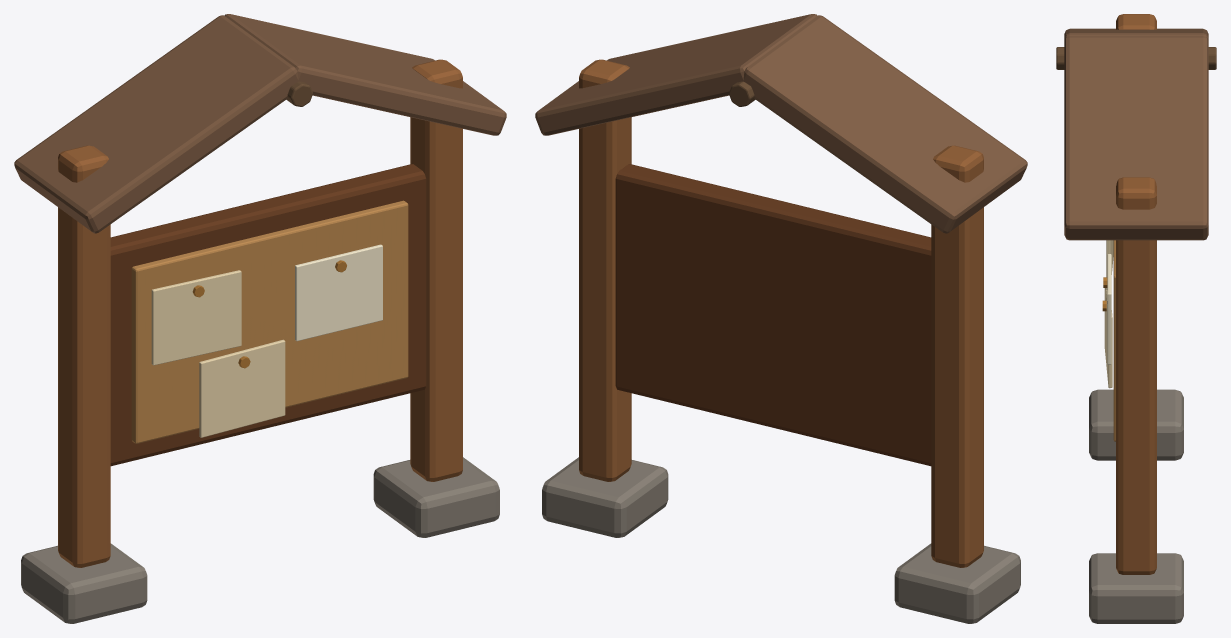
3 renders of one model, left to right at view 1: azimuth 30°, elevation 25°; view 2: azimuth 150°, elevation 25°; view 3: azimuth 270°, elevation 25°, orthographic. The views are drawn at different scales.
Visible parts, largest first — view 1: WK_RoofedNoticeboard_LOD1_Balanced; view 2: WK_RoofedNoticeboard_LOD1_Balanced; view 3: WK_RoofedNoticeboard_LOD1_Balanced.
Part boxes in pixels (left/top/right/bottom): WK_RoofedNoticeboard_LOD1_Balanced: left=14, top=14, right=506, bottom=623; WK_RoofedNoticeboard_LOD1_Balanced: left=535, top=14, right=1027, bottom=623; WK_RoofedNoticeboard_LOD1_Balanced: left=1056, top=14, right=1216, bottom=623.
Bounding box in the file's own units: 2.92 × 3.31 × 0.98.
